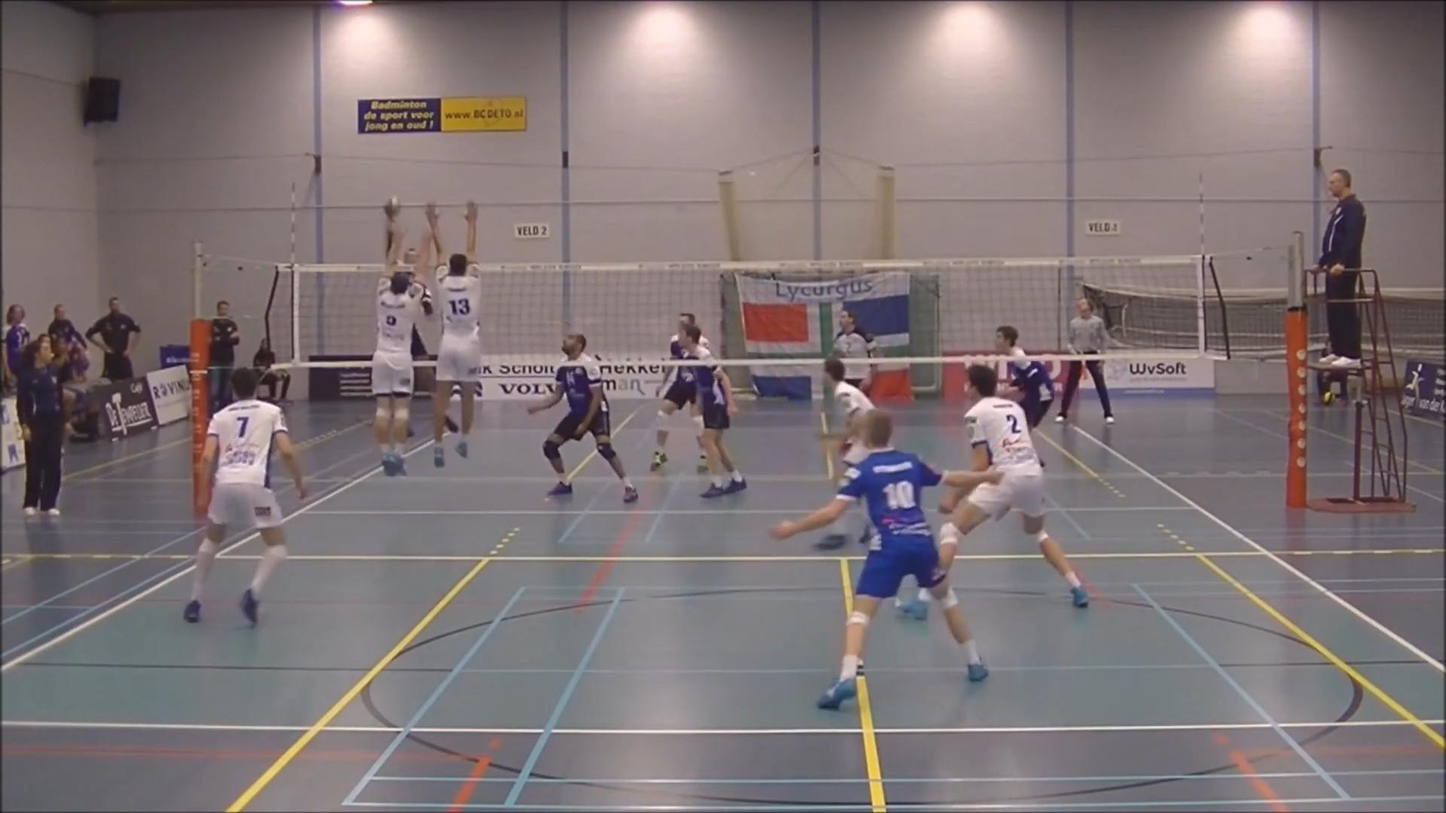attacco: (382, 192, 431, 318)
muro: (357, 213, 433, 484), (424, 196, 487, 468)
